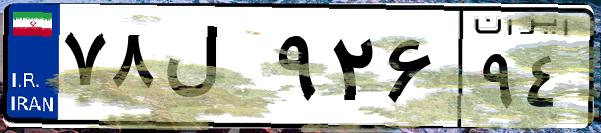2: (330, 28, 385, 110)
4: (525, 38, 570, 115)
6: (385, 28, 445, 110)
7: (57, 26, 110, 100)
8: (110, 28, 158, 98)
9: (270, 28, 330, 110), (475, 38, 525, 113)
ل: (158, 20, 270, 120)
